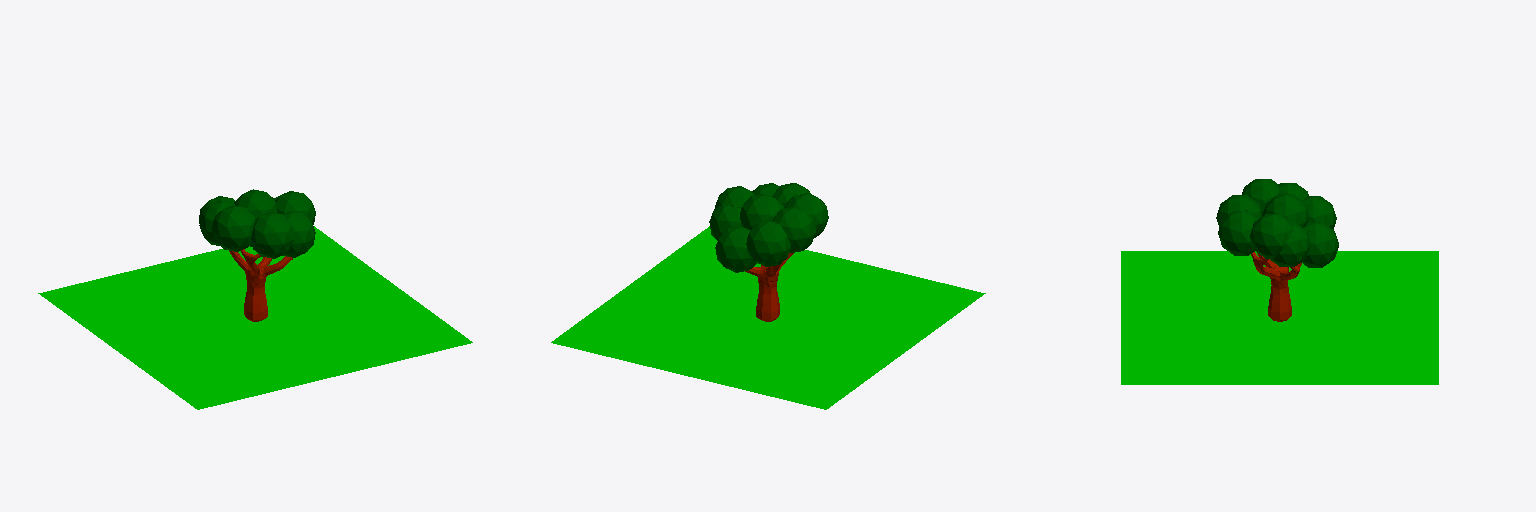
The model's file is Tree.obj.
3 views of the same model, side by side, from view 1: azimuth 30°, elevation 25°; view 2: azimuth 150°, elevation 25°; view 3: azimuth 270°, elevation 25° (orthographic).
Bounding box in the file's own units: 20 × 8.61 × 20.